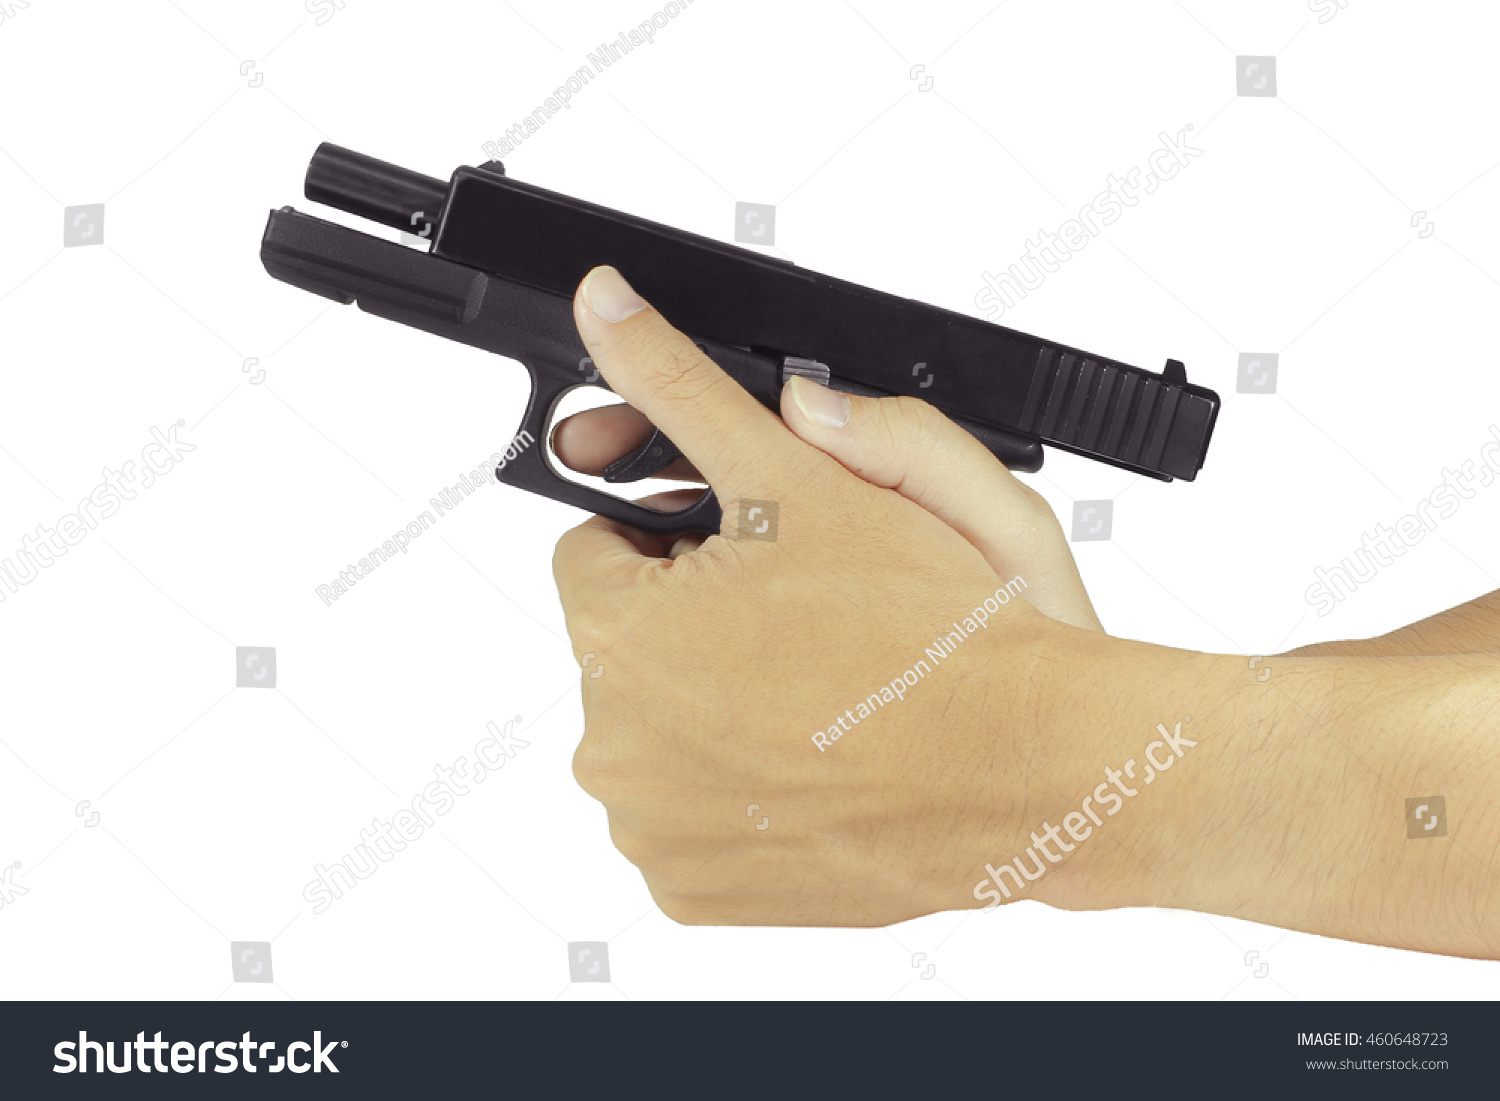pistol: (218, 77, 1255, 950)
